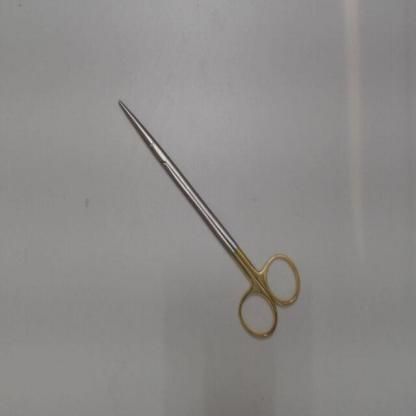7 Metzenbaum Scissors: (118, 99, 304, 345)
